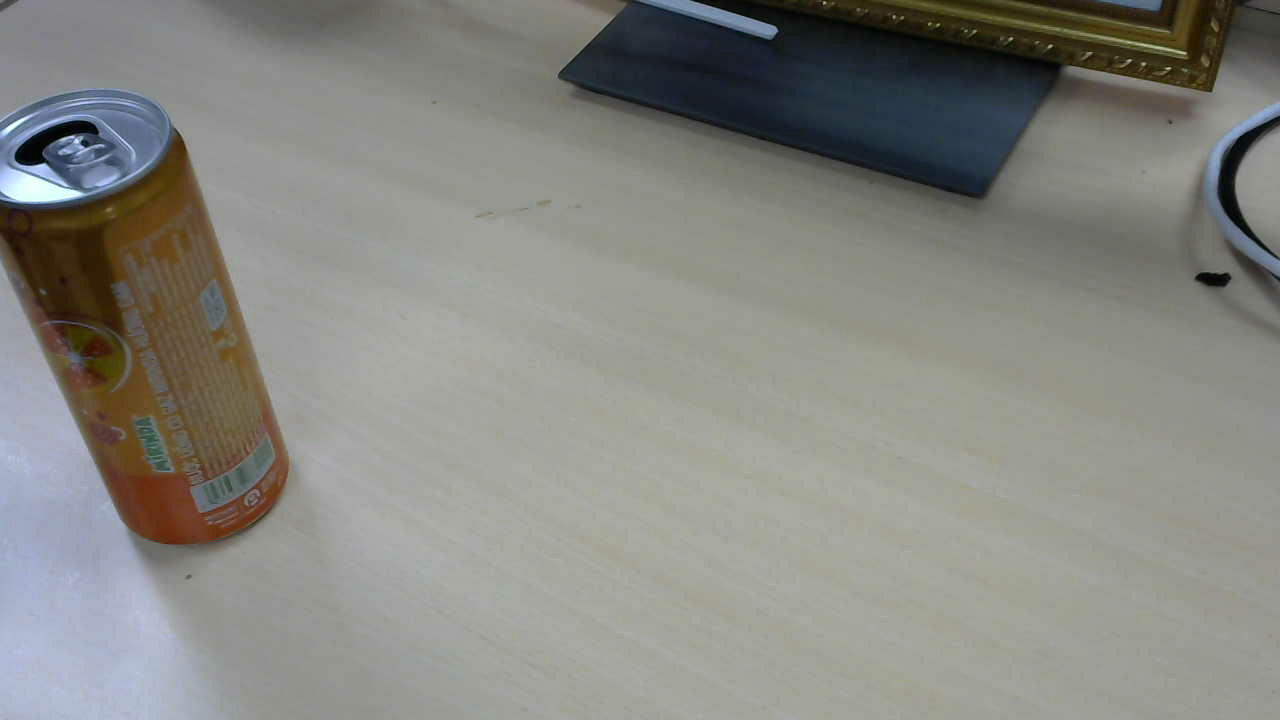Mirinda: (4, 89, 297, 552)
